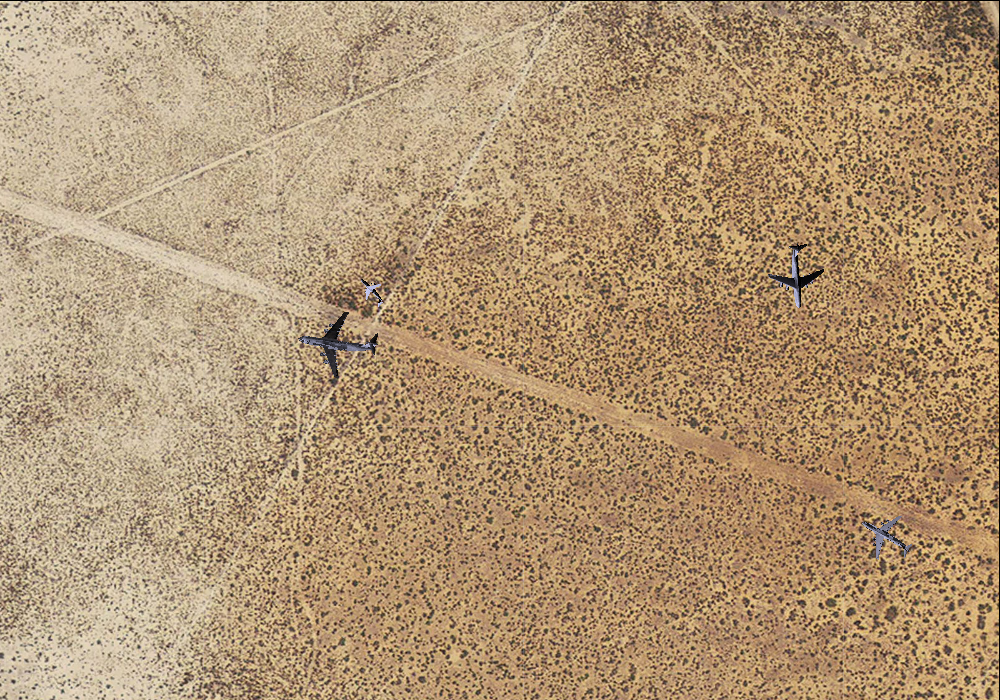plane: (292, 298, 383, 385), (849, 500, 923, 573), (764, 240, 831, 310), (349, 270, 392, 313)
